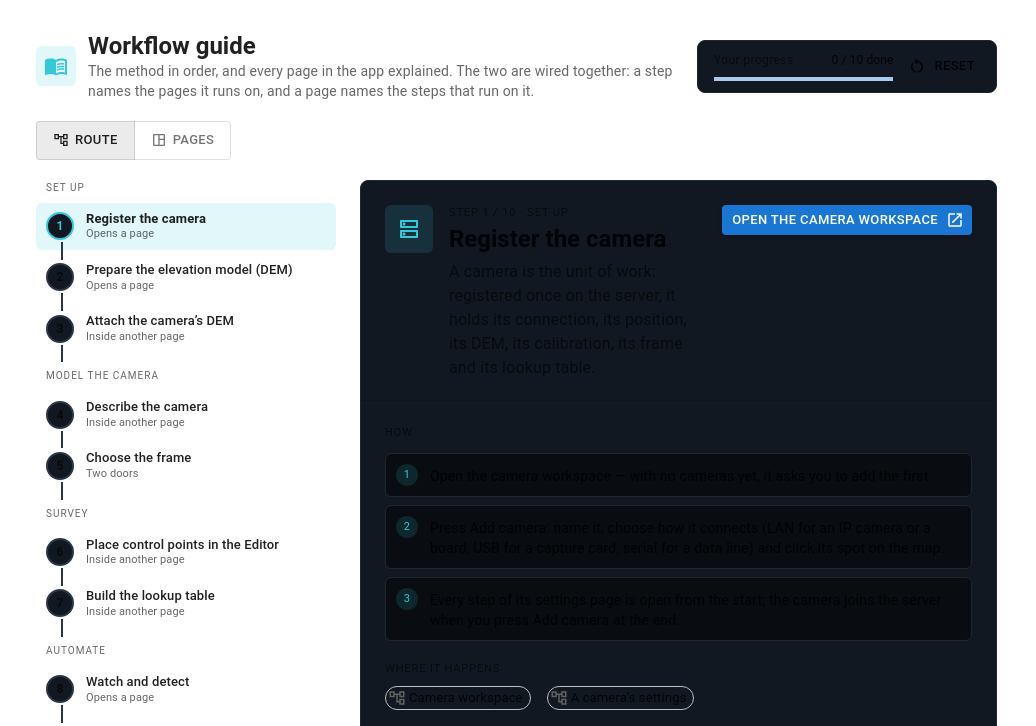
Test: the Pages view — what every page is responsible for › ★ lists every page the app has, grouped by where it lives
This screenshot has width=1036, height=726.
Click the button "Pages": (182, 140) [134,121,231,160]
(page scrolled)
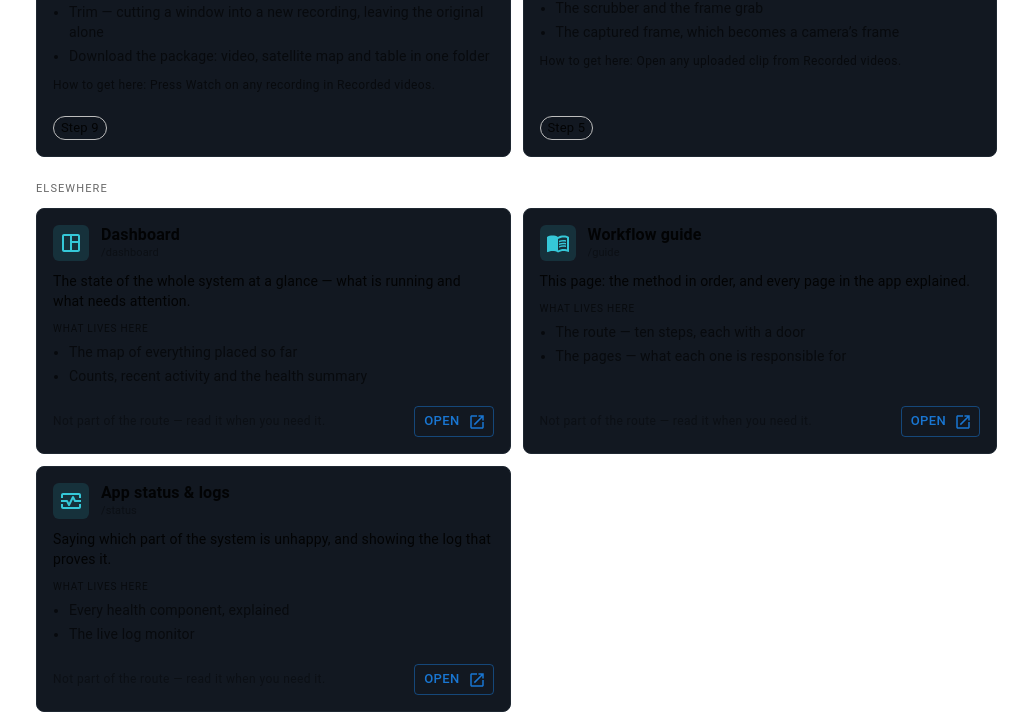
Expected: the element "Dashboard" is shown, [36,208,510,454]
Expected: the element "App status & logs" is shown, [36,466,510,712]
Expected: the element "ELSEWHERE" is shown
